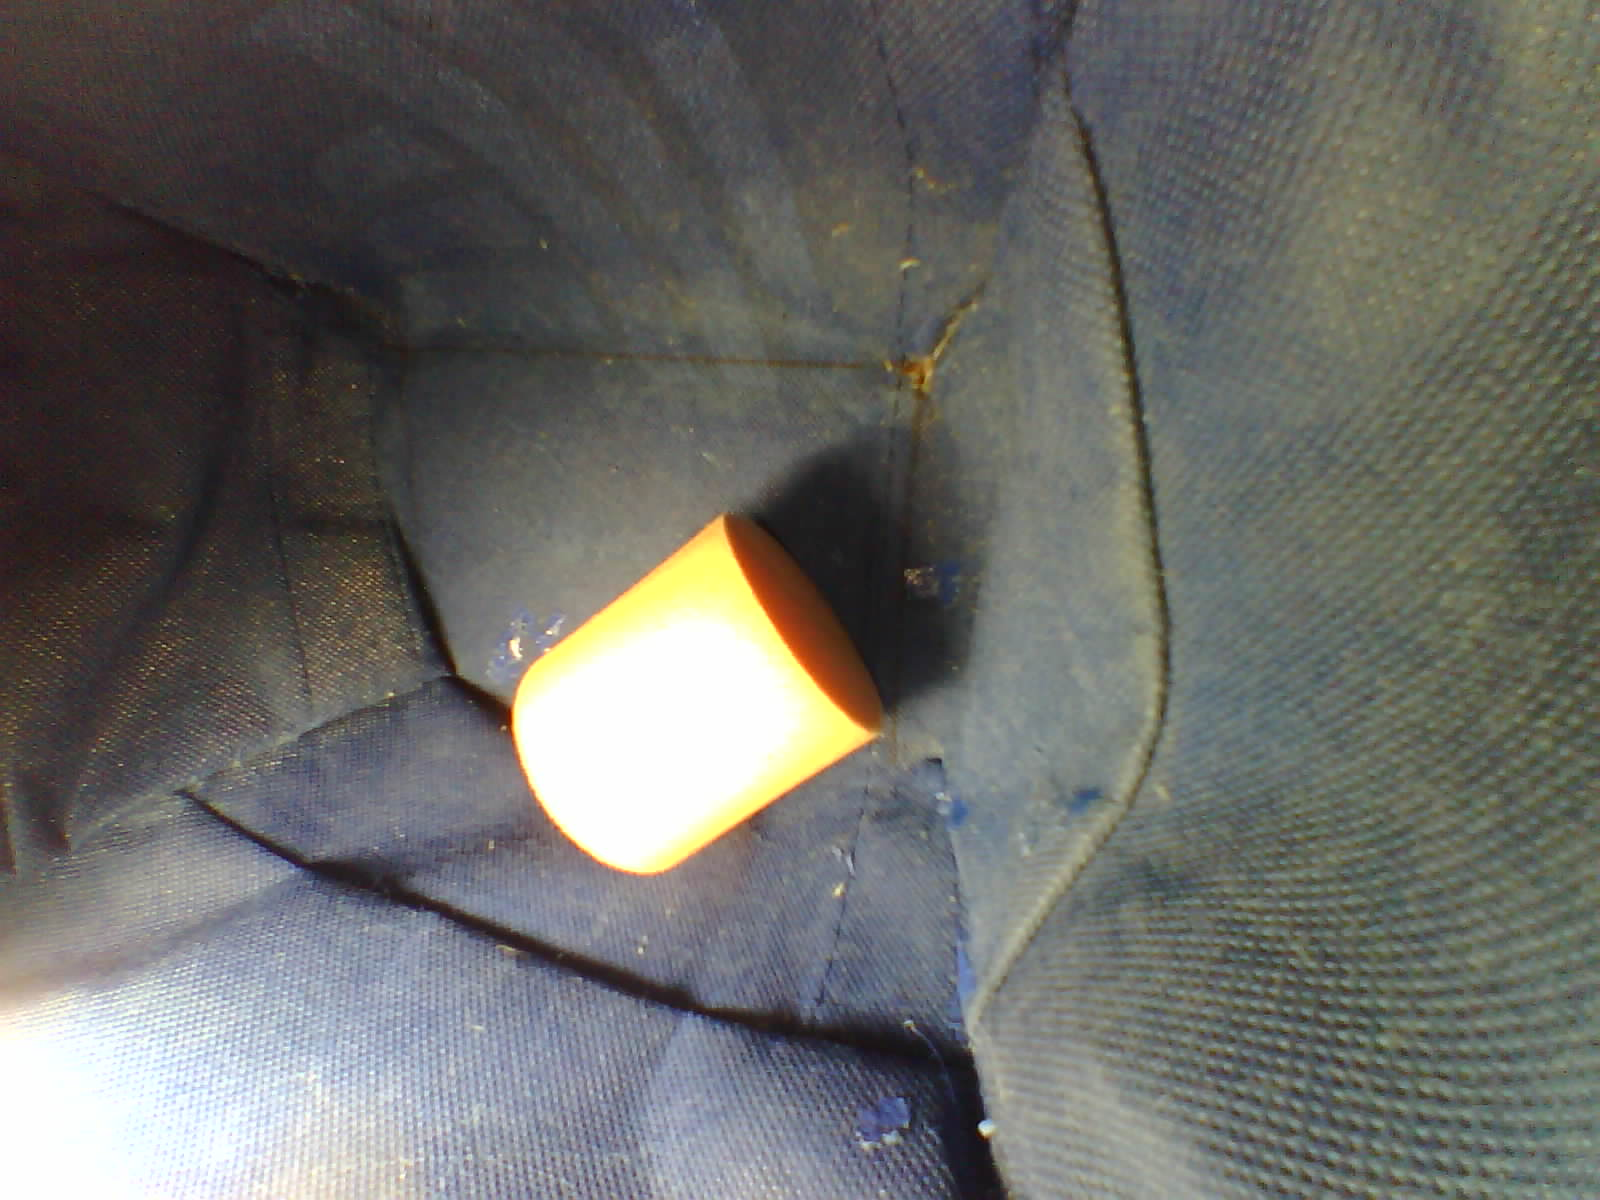cylinder-soft: (491, 498, 910, 903)
